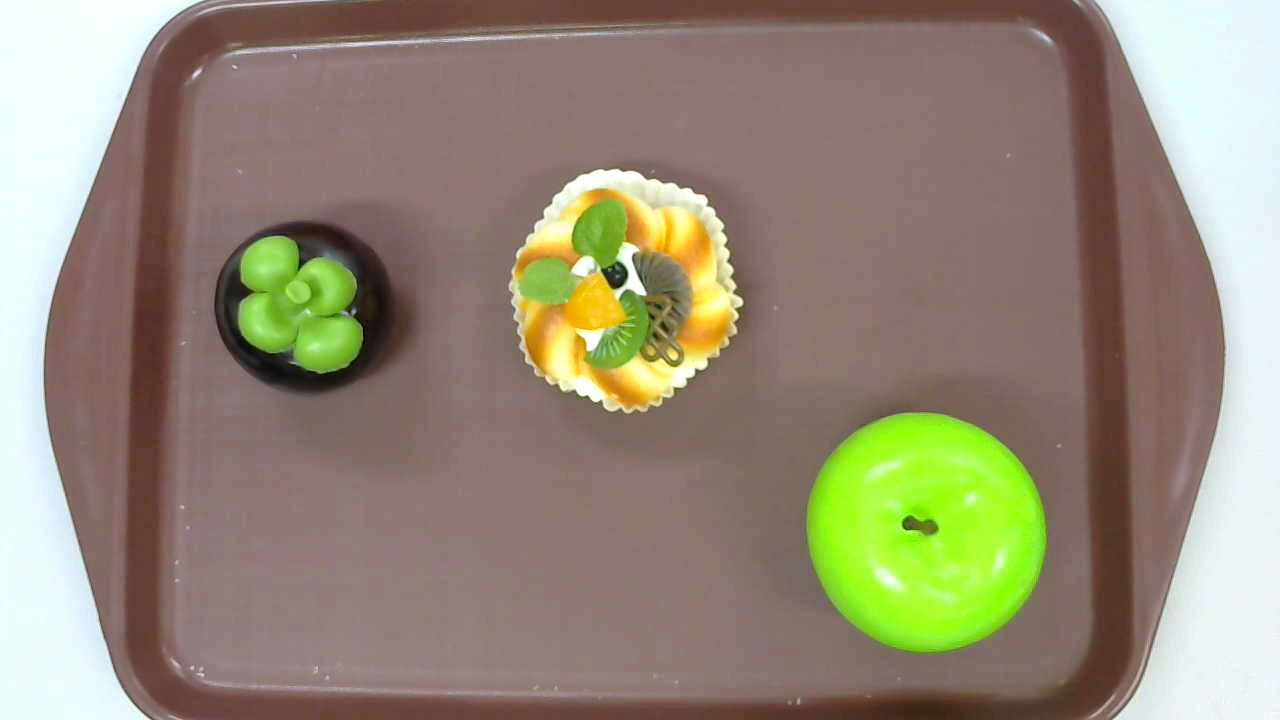fruit tart: (507, 169, 745, 413)
green apple: (805, 410, 1047, 653)
mangosteen: (214, 220, 397, 397)
